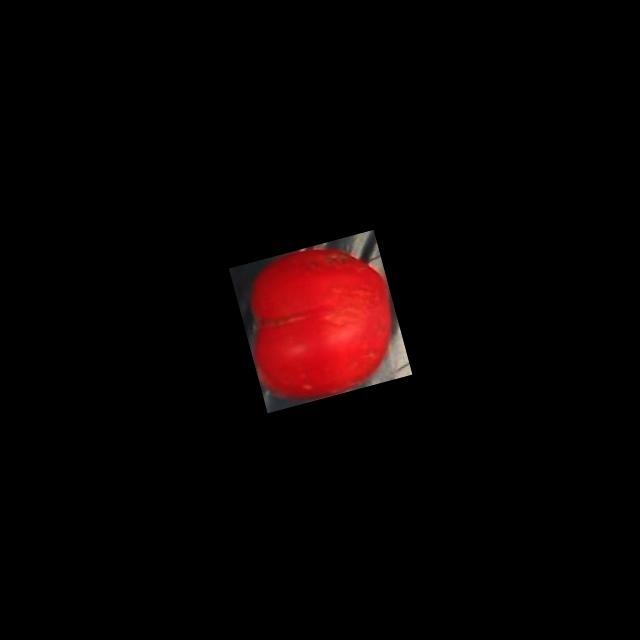tomato: (229, 228, 412, 410)
